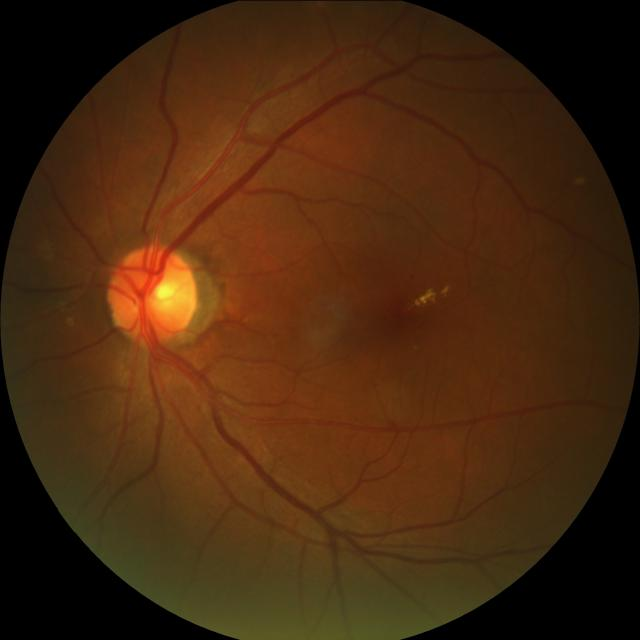OC: (140, 275, 180, 316)
OD: (108, 243, 200, 344)
